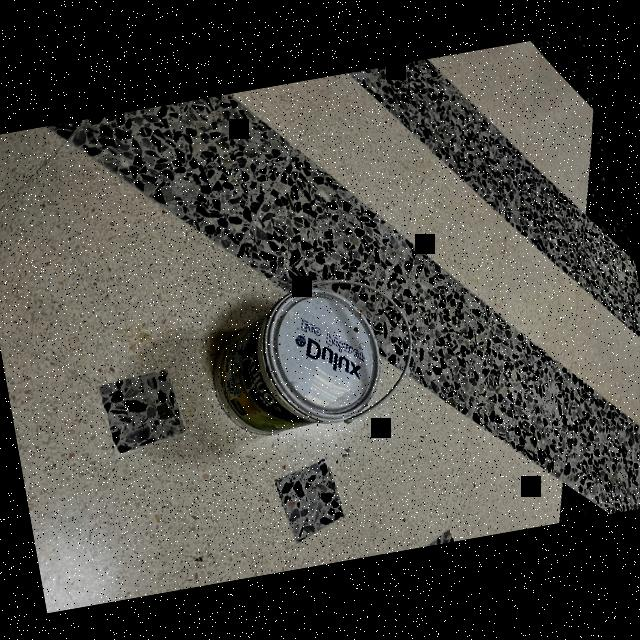paint_bucket: (197, 278, 394, 442)
